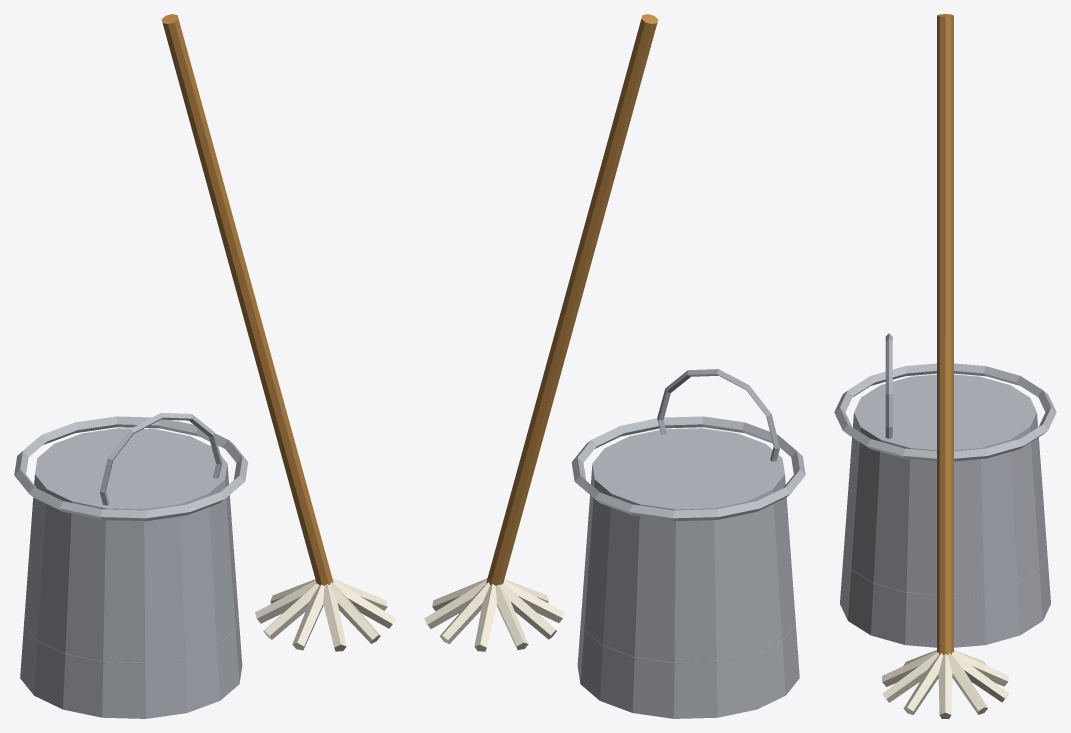
File: bucket_mop.glb
3 renders of one model, left to right at view 1: azimuth 30°, elevation 25°; view 2: azimuth 150°, elevation 25°; view 3: azimuth 270°, elevation 25°, orthographic. The views are drawn at different scales.
Visible parts, largest first — view 1: bucket_mop; view 2: bucket_mop; view 3: bucket_mop.
Boxes of the visible parts, x1,y1,x2,y2 form: bucket_mop: (14, 14, 395, 718); bucket_mop: (424, 14, 805, 718); bucket_mop: (834, 14, 1056, 718).
Bounding box in the file's own units: 0.5526 × 0.9534 × 0.316.
